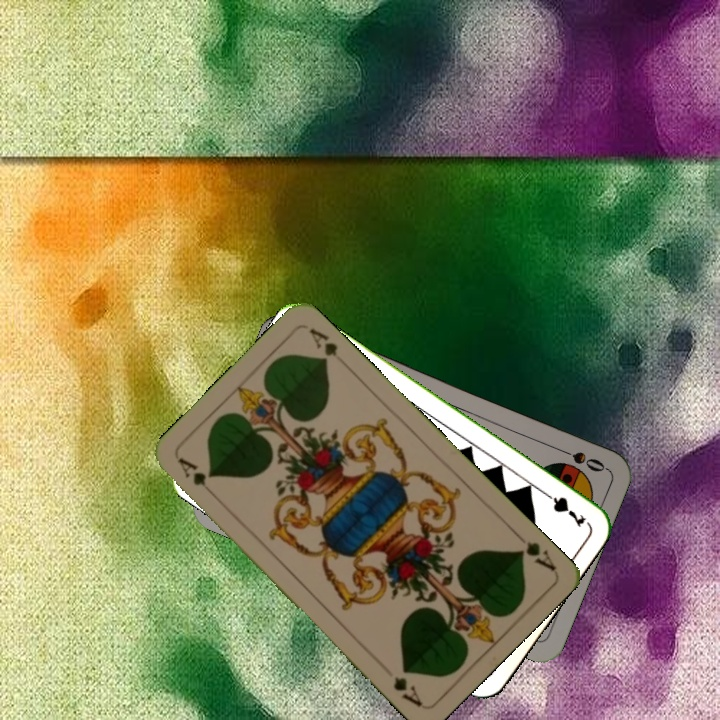G7: (537, 486, 589, 530)
GA: (174, 453, 220, 501), (510, 528, 558, 573)
SO: (551, 443, 608, 475)
